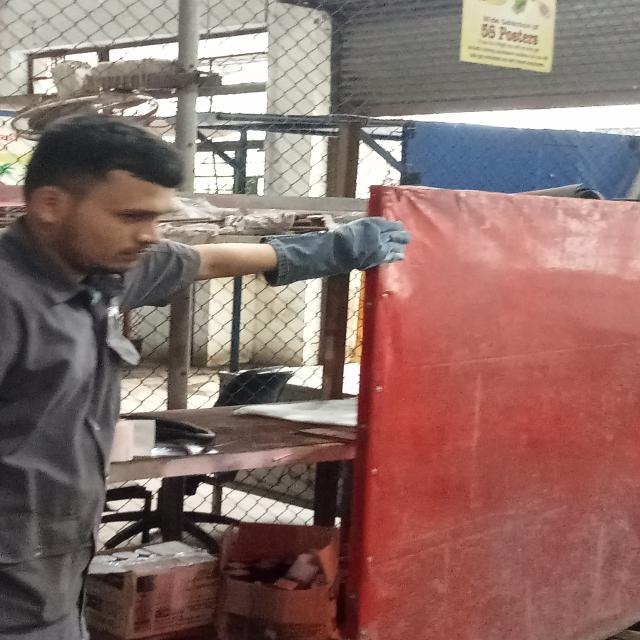Gloves-Detection: (251, 223, 419, 283)
